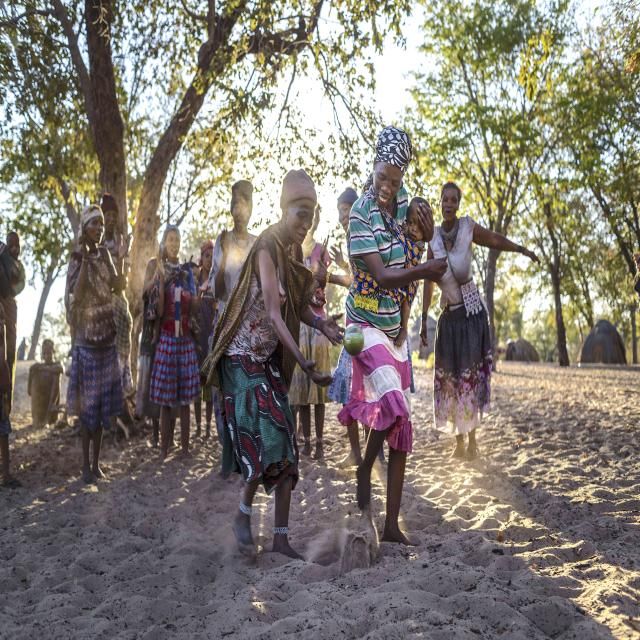sem_oculos: (366, 165, 404, 191), (440, 188, 464, 209), (289, 205, 312, 222), (85, 220, 103, 230), (165, 241, 181, 249)
